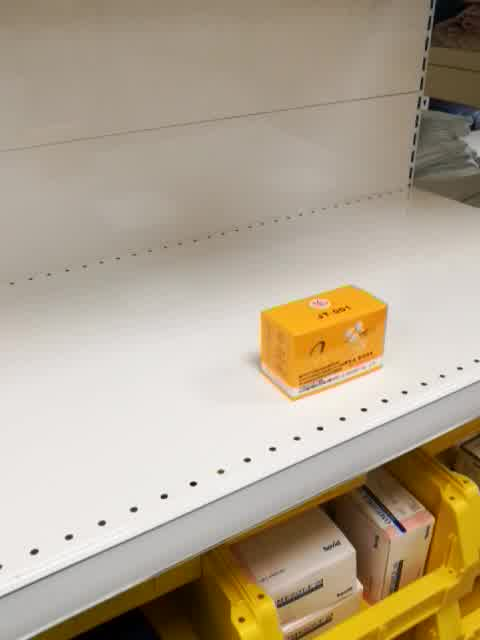jasminetea: (256, 280, 393, 405)
